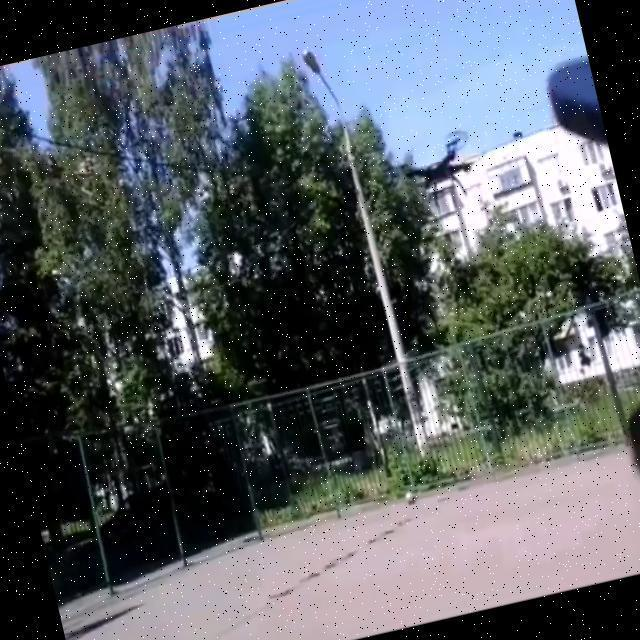Drons: (382, 123, 488, 215)
